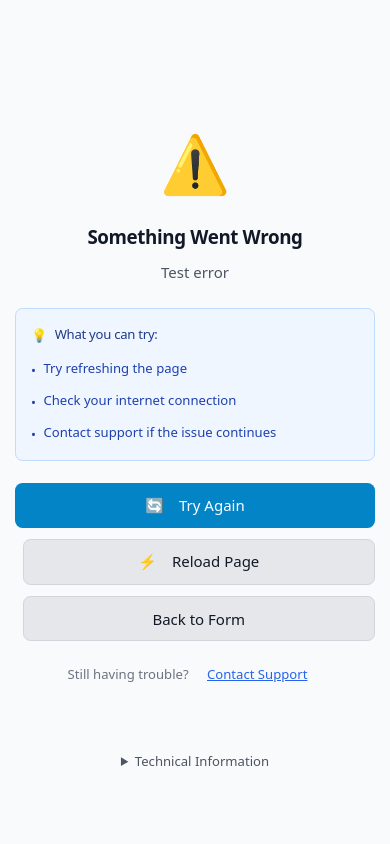
EnhancedErrorBoundary › Secure Error Logging - Requirement 4.5 › should include context for debugging without sensitive data
// Open technical information
Click the heading "Technical Information" at (202, 761), box [135,752,269,770]
(page scrolled)
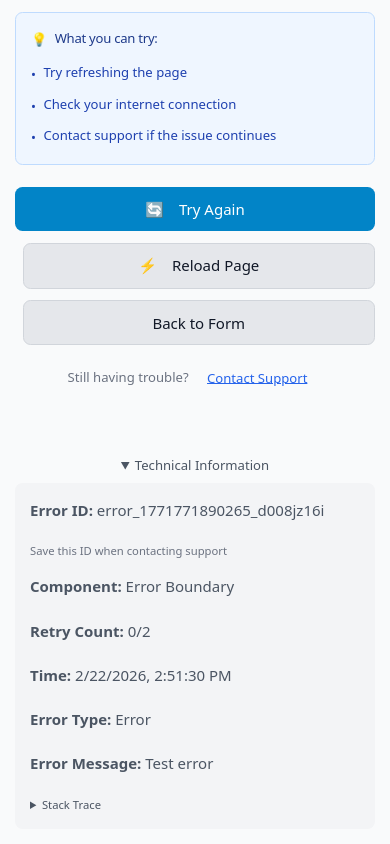
Expected: the text "Error ID:" is shown, [30,500,93,520]
Expected: the text "Component:" is shown, [30,576,122,596]
Expected: the text "Retry Count:" is shown, [30,621,124,641]
